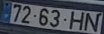2: (20, 5, 32, 24)
3: (48, 9, 60, 28)
6: (37, 7, 49, 26)
7: (12, 3, 22, 23)
H: (68, 10, 85, 30)
N: (83, 12, 100, 32)
